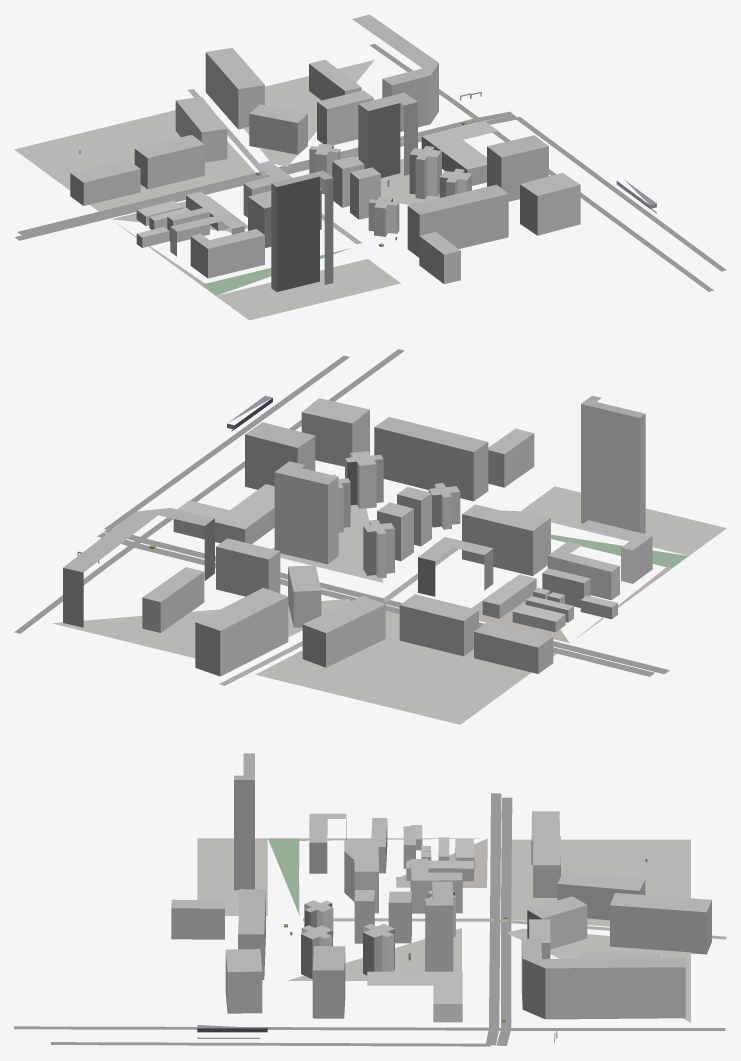
The picture shows the model from 3 angles, top to bottom: view 1: azimuth 30°, elevation 25°; view 2: azimuth 150°, elevation 25°; view 3: azimuth 270°, elevation 25°; orthographic projection. The views are drawn at different scales.
Bounding box in the file's own units: 613 × 125 × 722.
